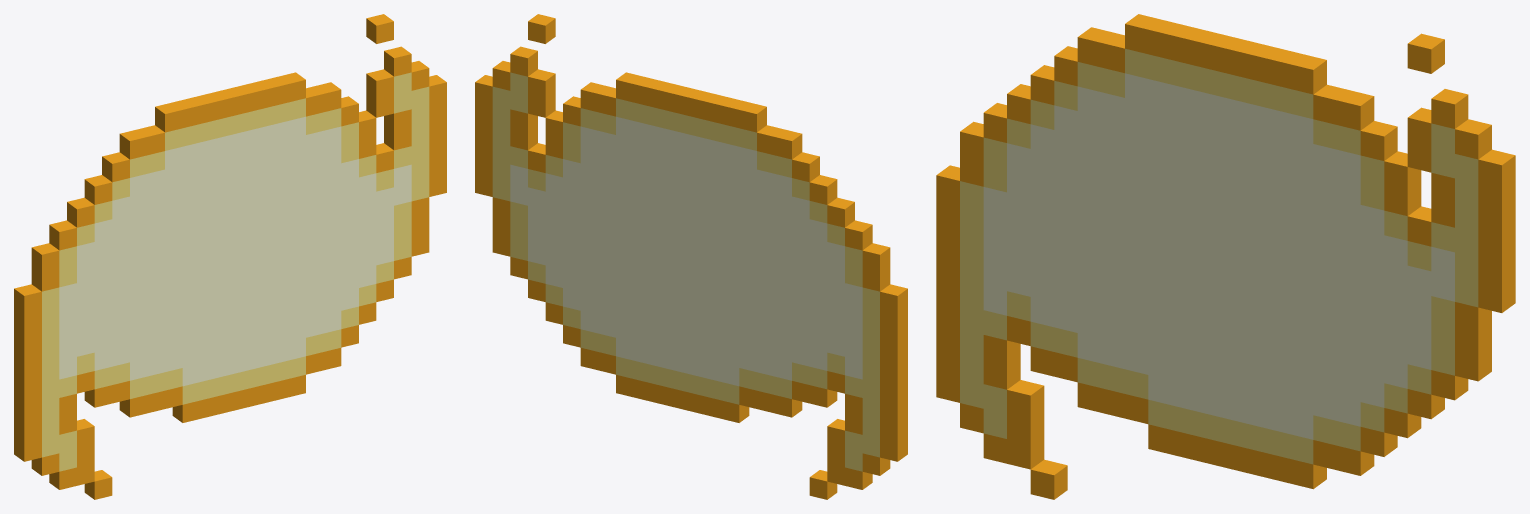
Rendered from Fight_732_2_06_fx.obj.
The picture shows the model from 3 angles, left to right: view 1: azimuth 30°, elevation 25°; view 2: azimuth 150°, elevation 25°; view 3: azimuth 330°, elevation 25°; orthographic projection. The views are drawn at different scales.
Size of the model in its own units: 2.4 by 2.2 by 0.1.
1 material, 1 textured.
